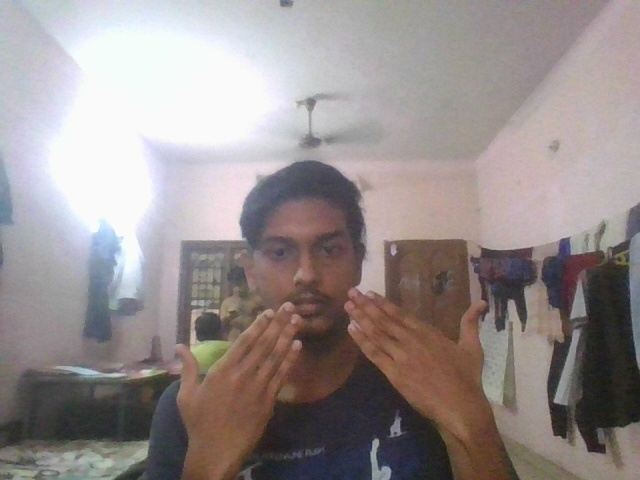thankyou: (172, 286, 491, 447)
